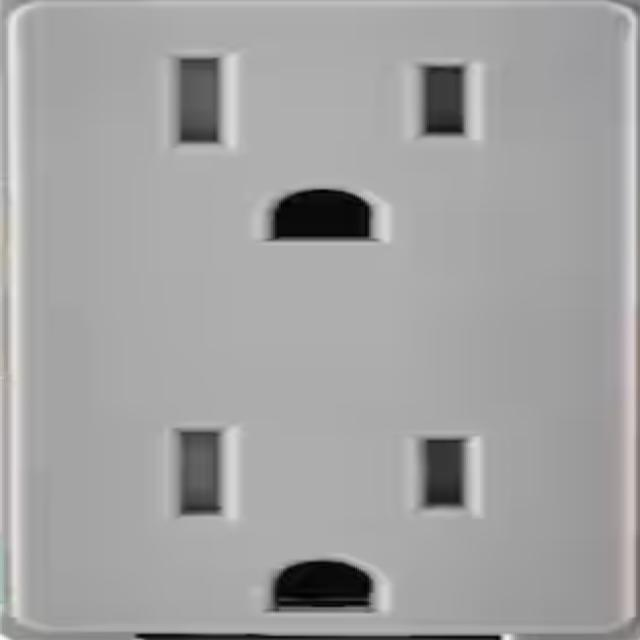type_b: (20, 14, 630, 636), (14, 377, 630, 634), (25, 12, 618, 272)
